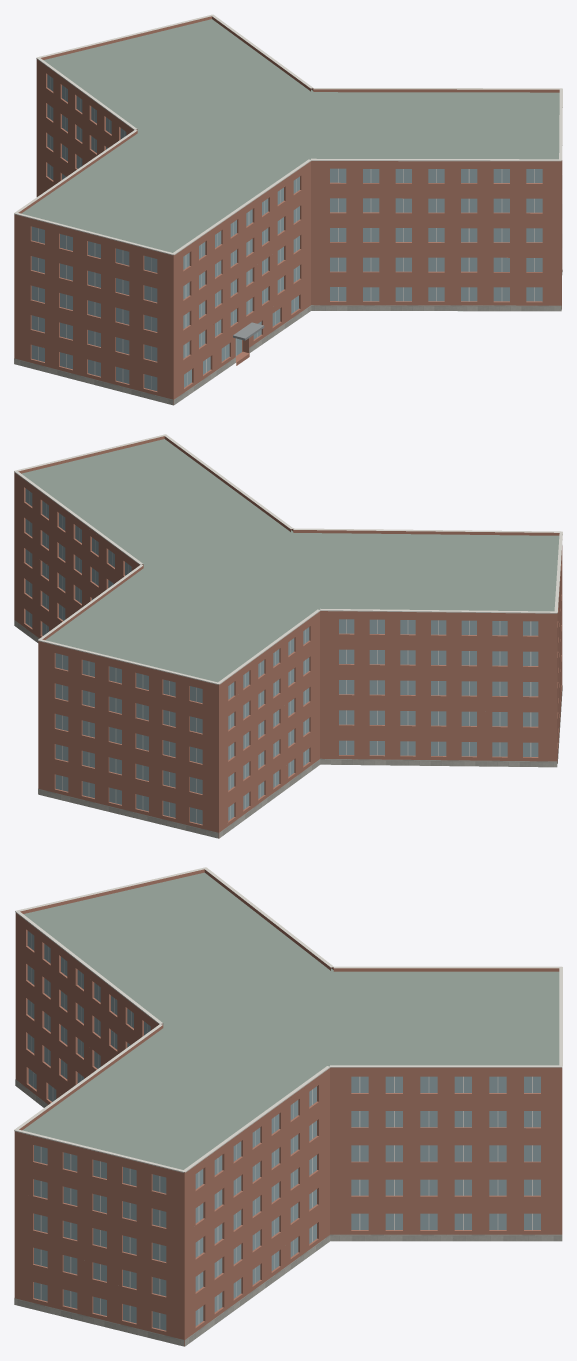
3 renders of one model, top to bottom at view 1: azimuth 30°, elevation 25°; view 2: azimuth 150°, elevation 25°; view 3: azimuth 270°, elevation 25°, orthographic. The views are drawn at different scales.
Visible parts, largest first — view 1: b117903335__wall, b117903335__roof, b117903335__glass, b117903335__trim, b117903335__parapet, b117903335__base, b117903335__frame; view 2: b117903335__wall, b117903335__roof, b117903335__glass, b117903335__trim, b117903335__parapet, b117903335__base, b117903335__frame; view 3: b117903335__wall, b117903335__roof, b117903335__glass, b117903335__trim, b117903335__parapet, b117903335__base, b117903335__frame.
Boxes of the visible parts, box(x1,y1,x2,y2) form: b117903335__wall: box(14, 61, 562, 404); b117903335__roof: box(21, 19, 559, 311); b117903335__glass: box(31, 74, 542, 390); b117903335__trim: box(14, 14, 562, 255); b117903335__parapet: box(14, 16, 561, 257); b117903335__base: box(14, 270, 562, 405); b117903335__frame: box(38, 77, 534, 389); b117903335__wall: box(14, 474, 562, 838); b117903335__roof: box(21, 439, 559, 767); b117903335__glass: box(25, 488, 538, 824); b117903335__trim: box(14, 434, 562, 684); b117903335__parapet: box(14, 436, 559, 686); b117903335__base: box(14, 620, 562, 838); b117903335__frame: box(29, 491, 531, 823); b117903335__wall: box(14, 914, 562, 1346); b117903335__roof: box(22, 872, 559, 1169); b117903335__glass: box(27, 931, 540, 1330); b117903335__trim: box(14, 867, 562, 1172); b117903335__parapet: box(14, 869, 562, 1175); b117903335__base: box(14, 1079, 562, 1346); b117903335__frame: box(31, 934, 532, 1329).
Bounding box in the file's own units: 68.72 × 18.75 × 52.29.
10 materials, 1 textured.
